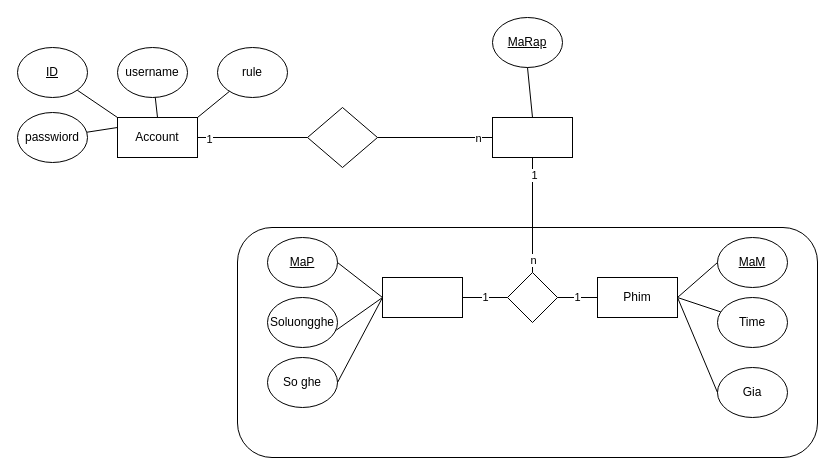
Image size: 835x475. Some labels were removed from this diagram. Here are the shapes that lost their labels. From the top down, the centre of each, then its label:
At (342,137): "Đặt".
At (532,137): "Rạp phim".
At (422,297): "Phòng".
At (532,297): "Chiếu".
